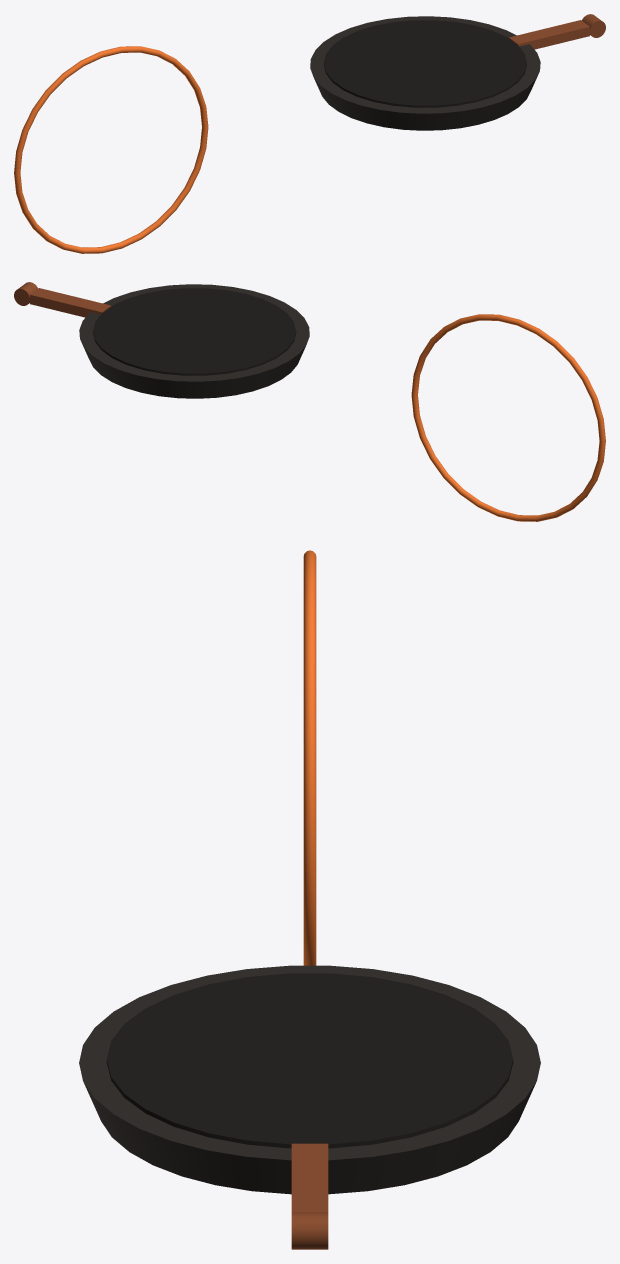
The model's file is home_eq_nonstick_pan.glb.
The picture shows the model from 3 angles, top to bottom: view 1: azimuth 30°, elevation 25°; view 2: azimuth 150°, elevation 25°; view 3: azimuth 270°, elevation 25°; orthographic projection. The views are drawn at different scales.
Bounding box in the file's own units: 2.93 × 0.9627 × 1.
